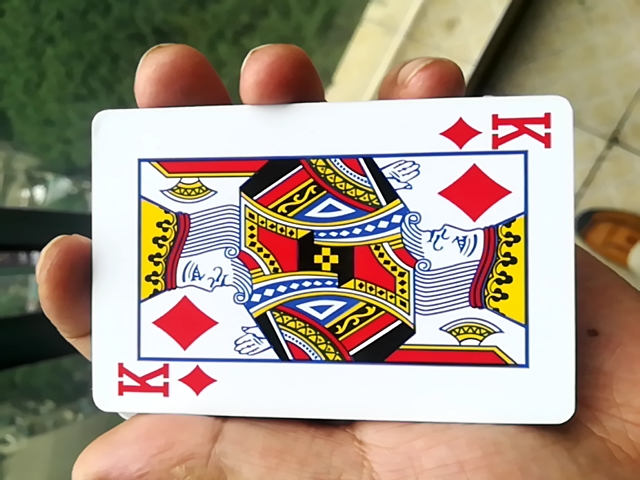fk k: (77, 102, 573, 434)
